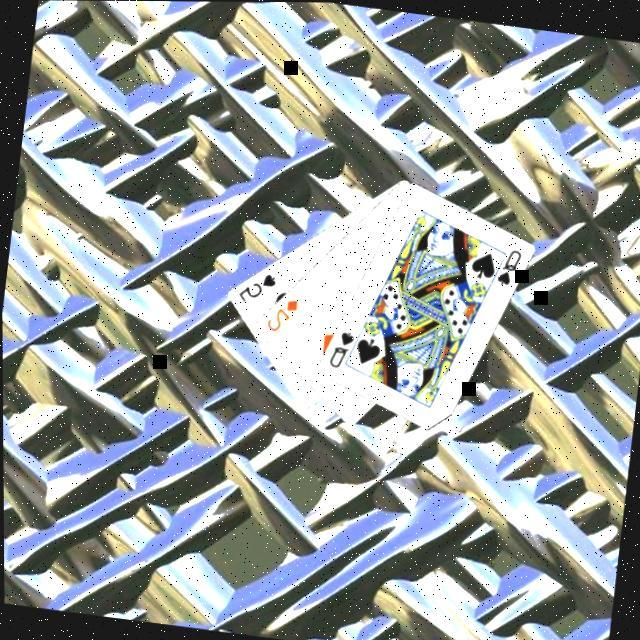2D: (260, 292, 298, 337)
5S: (231, 266, 277, 309)
QS: (489, 243, 522, 290), (322, 326, 354, 372)
